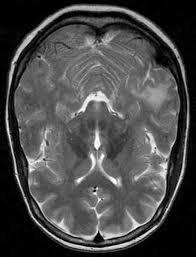Normal_Brain: (1, 2, 196, 257)
